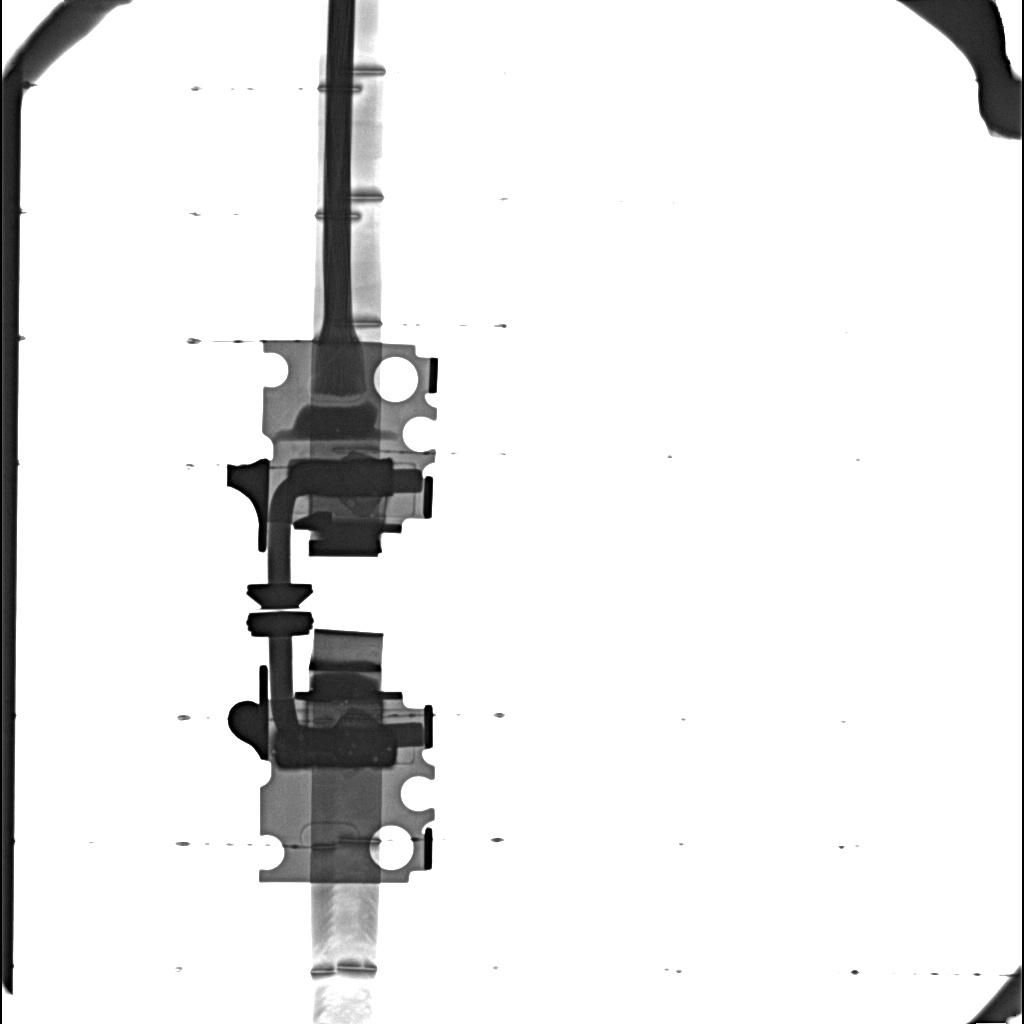defect: (276, 724, 395, 769), (289, 459, 393, 497)
